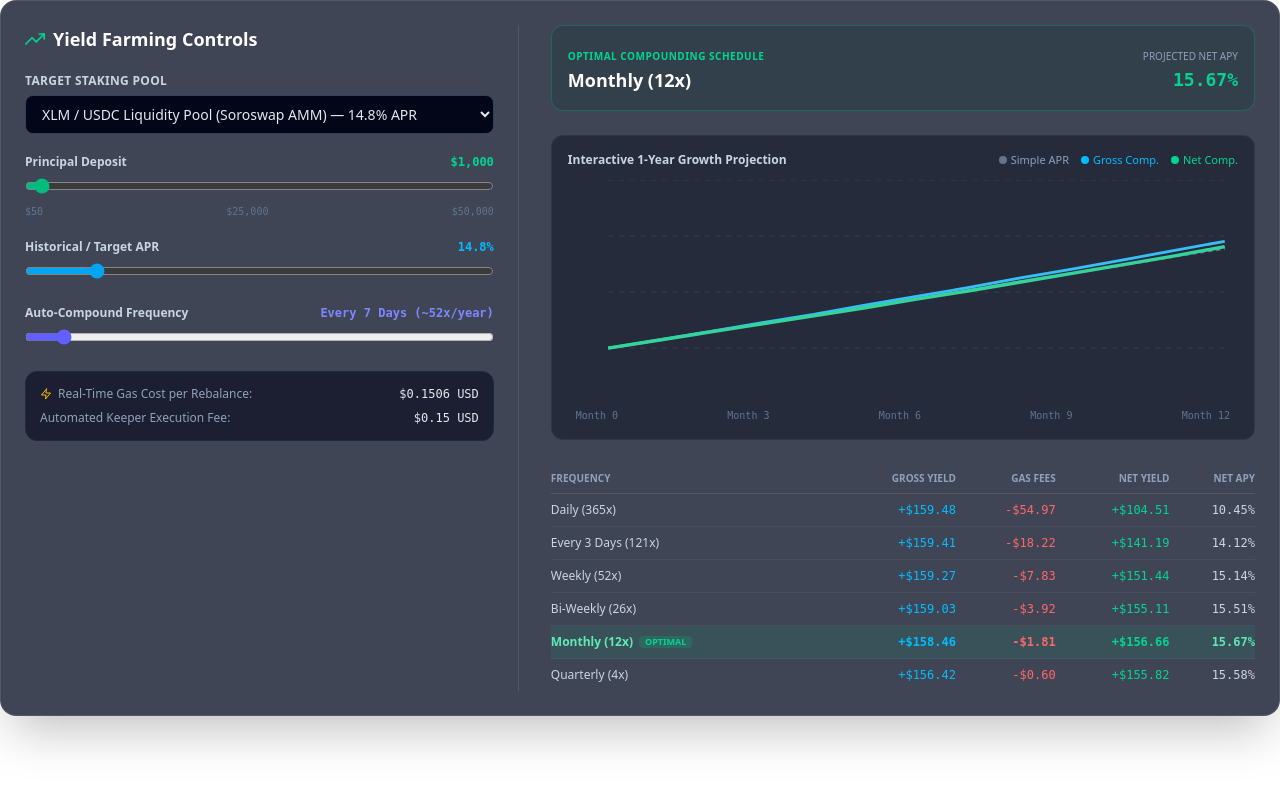
YieldCalculator Component — FE-PROD-25 › switches staking pool and updates historical APR
The image size is (1280, 800).
Select "AQUA / XLM Yield Vault (Aquarius) — 24.2% APR" in the dropdown: (259, 114) 25,95 -> 494,134
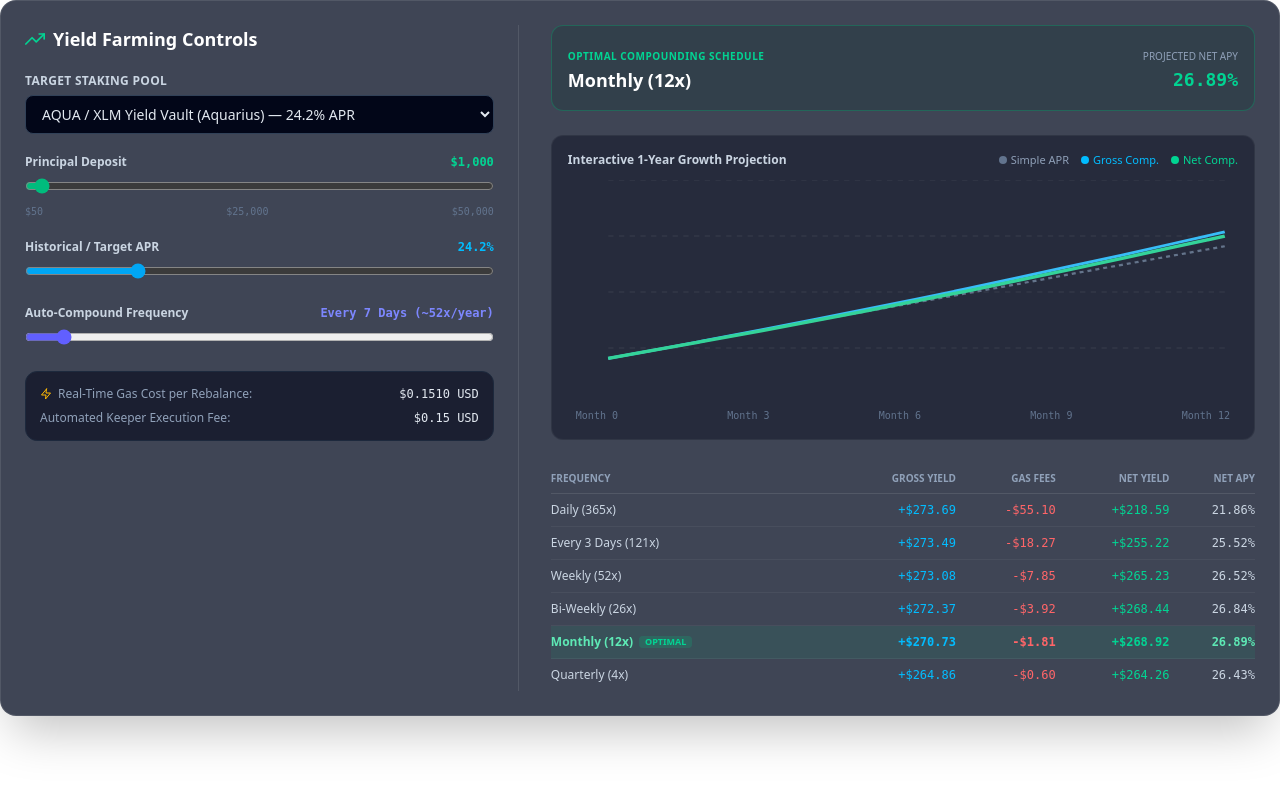
expect the text "24.2%" is shown: met, box 458,239 -> 494,255
